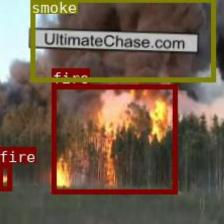fire: (51, 84, 177, 193), (0, 162, 11, 190)
smoke: (29, 0, 215, 81)
